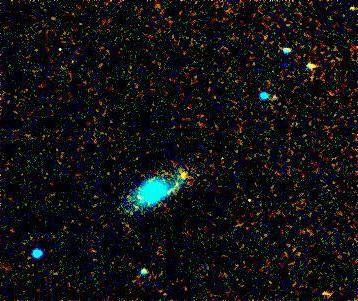star: (172, 158, 202, 188)
